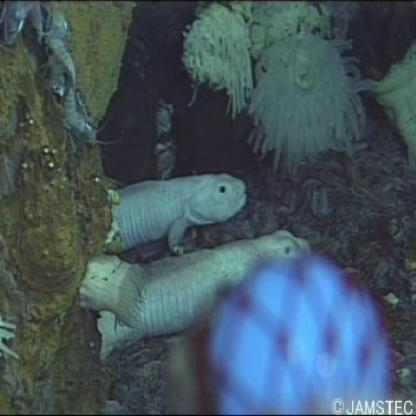Bio: (79, 167, 314, 360), (244, 30, 391, 179), (1, 2, 109, 152)
